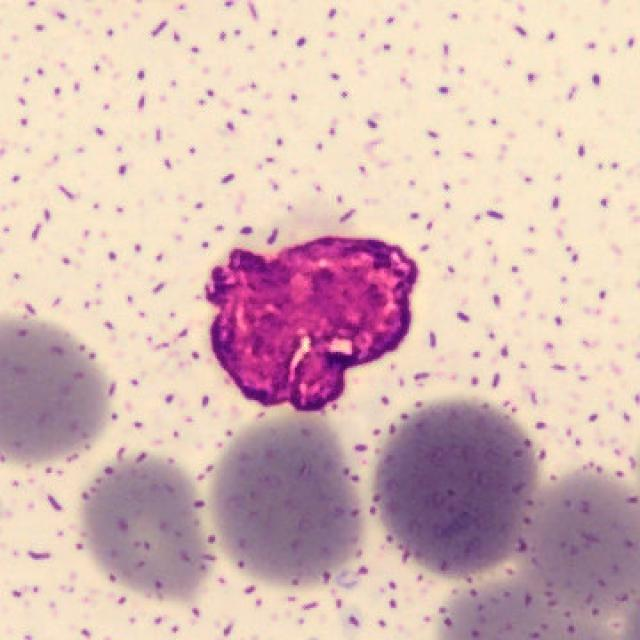Mieloblasto: (199, 236, 420, 414)
